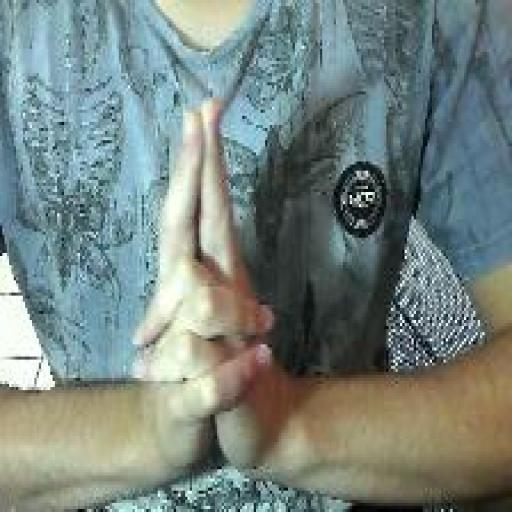Tora -tiger-: (130, 92, 279, 490)
